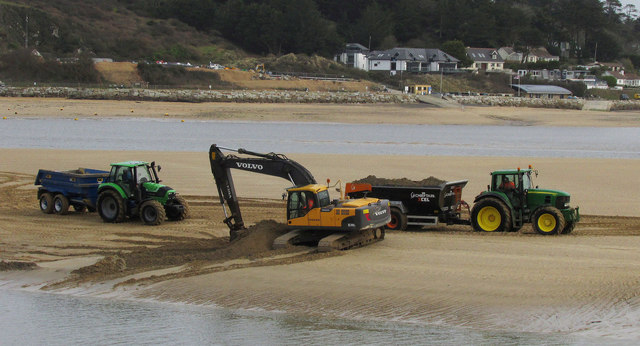excavator: (203, 138, 388, 257)
truck: (350, 165, 582, 241), (35, 158, 187, 229)
